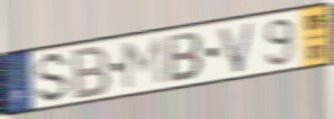9: (263, 16, 297, 67)
B: (71, 43, 113, 102), (166, 30, 206, 85)
M: (121, 35, 166, 91)
S: (34, 50, 72, 105)
V: (216, 19, 258, 76)
